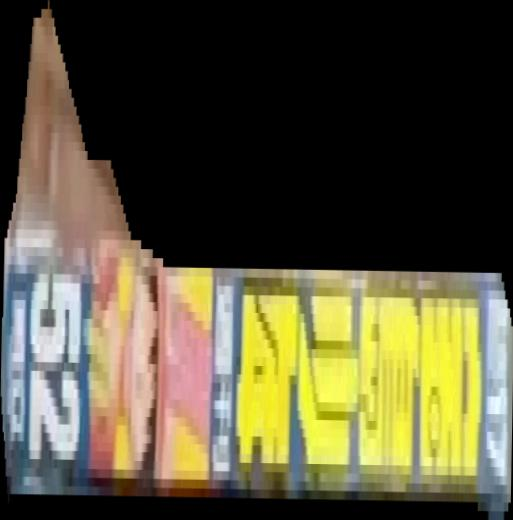flat: (1, 1, 513, 520)
